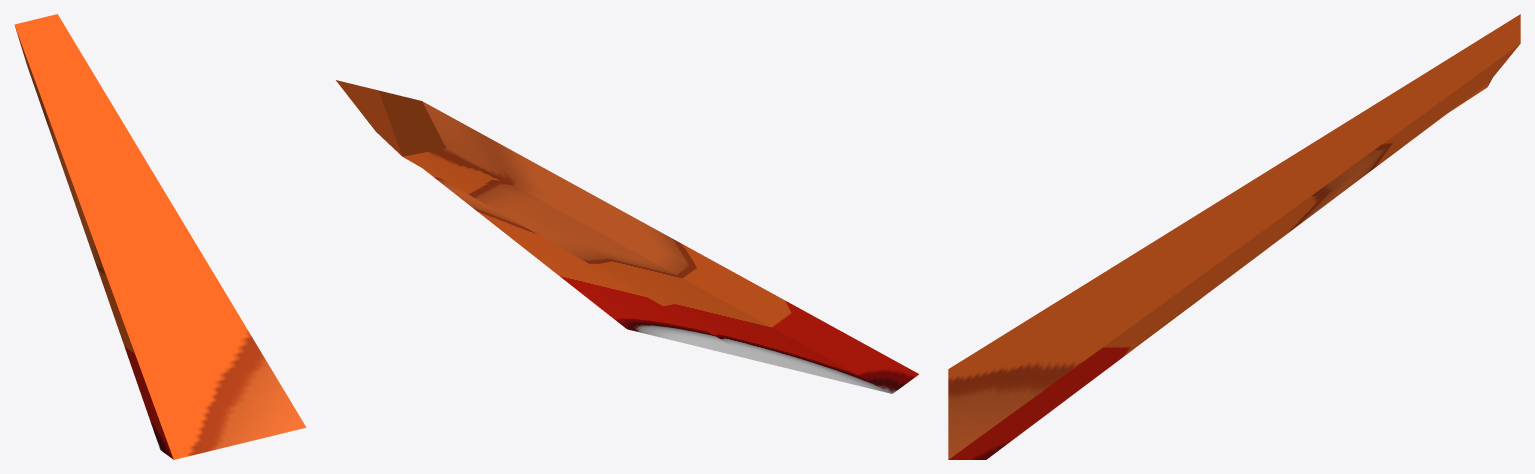
File: RocketRamp.FBX
3 views of the same model, side by side, from view 1: azimuth 30°, elevation 25°; view 2: azimuth 150°, elevation 25°; view 3: azimuth 270°, elevation 25° (orthographic). The views are drawn at different scales.
Visible parts, largest first — view 1: RocketRamp; view 2: RocketRamp; view 3: RocketRamp.
Boxes of the visible parts, bbox=[...] form: RocketRamp: bbox=[14, 14, 306, 459]; RocketRamp: bbox=[336, 80, 918, 393]; RocketRamp: bbox=[948, 14, 1520, 459].
Size of the model in its own units: 0.6801 by 1.35 by 1.81.
